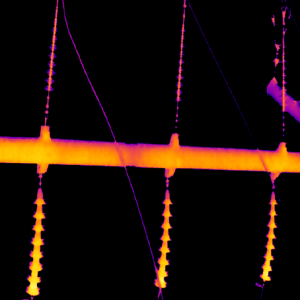insulator: (24, 186, 46, 296), (150, 188, 172, 288), (259, 189, 277, 280), (45, 6, 60, 105), (176, 16, 185, 101), (281, 32, 285, 110)
